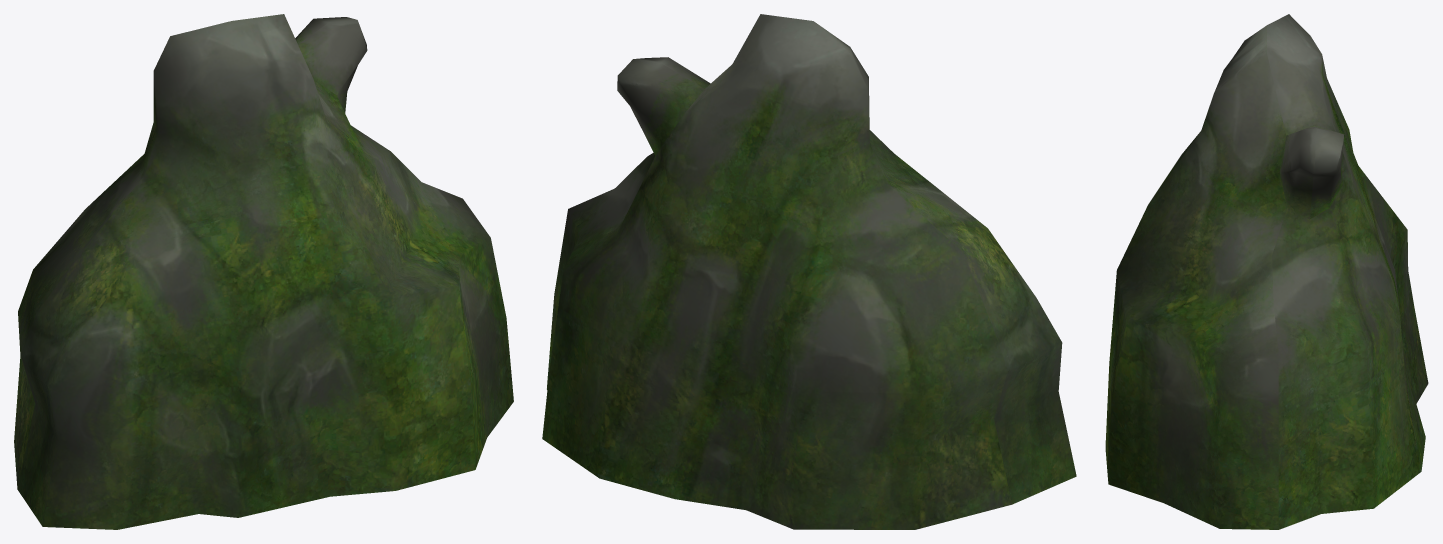
Rendered from Stage_CaoYuan_ShanShi04.FBX.
3 views of the same model, side by side, from view 1: azimuth 30°, elevation 25°; view 2: azimuth 150°, elevation 25°; view 3: azimuth 270°, elevation 25° (orthographic). The views are drawn at different scales.
Visible parts, largest first — view 1: Stage_CaoYuan_ShanShi04; view 2: Stage_CaoYuan_ShanShi04; view 3: Stage_CaoYuan_ShanShi04.
Part boxes in pixels (x1,y1,x2,y2): Stage_CaoYuan_ShanShi04: (14, 14, 513, 529); Stage_CaoYuan_ShanShi04: (542, 14, 1076, 529); Stage_CaoYuan_ShanShi04: (1105, 14, 1428, 529).
Size of the model in its own units: 897 by 752 by 566.
